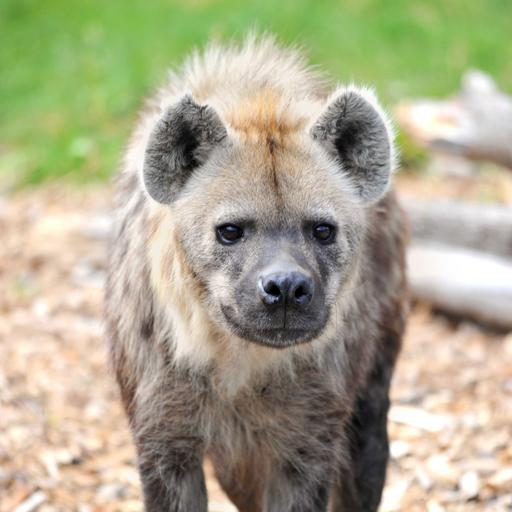Hyena: (98, 28, 420, 512)
